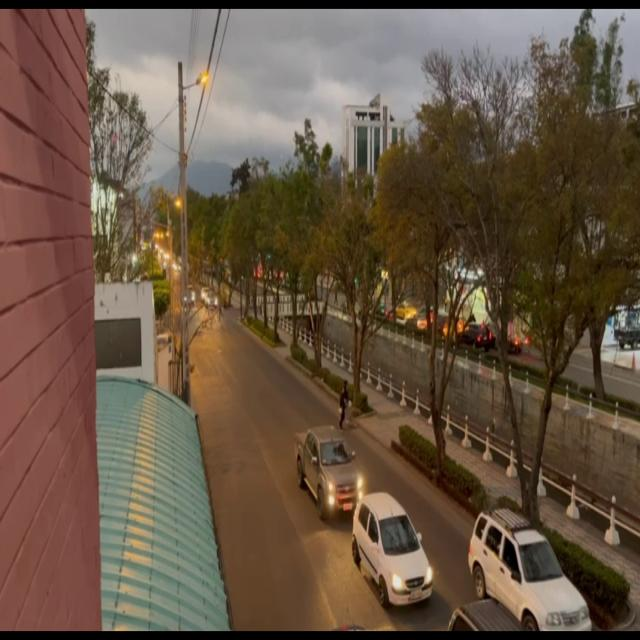CMT: (302, 431, 362, 518)
SUV: (479, 513, 593, 639), (356, 502, 430, 607)
